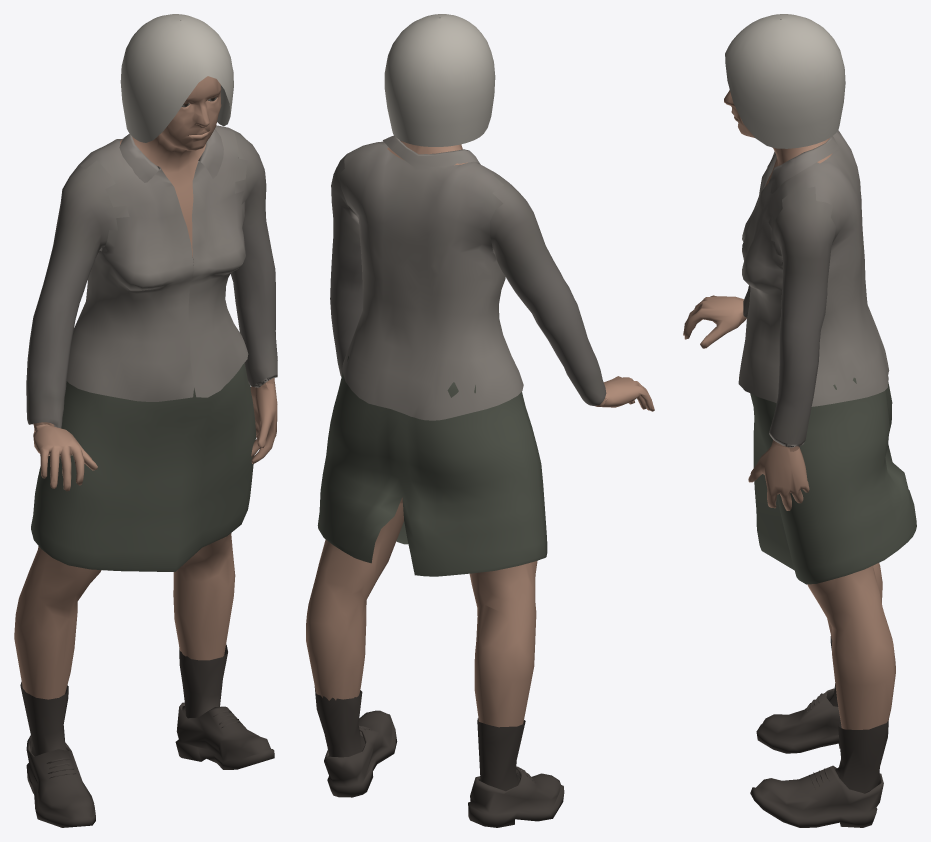
Rendered from participant-14-middle.glb.
3 renders of one model, left to right at view 1: azimuth 30°, elevation 25°; view 2: azimuth 150°, elevation 25°; view 3: azimuth 270°, elevation 25°, orthographic. The views are drawn at different scales.
Visible parts, largest first — view 1: Participant anatomy and ordinary clothes; view 2: Participant anatomy and ordinary clothes; view 3: Participant anatomy and ordinary clothes.
Part boxes in pixels (x1,y1,x2,y2): Participant anatomy and ordinary clothes: (14,14,277,827); Participant anatomy and ordinary clothes: (306,14,654,827); Participant anatomy and ordinary clothes: (683,14,916,827).
Bounding box in the file's own units: 0.6117 × 1.63 × 0.4457.
